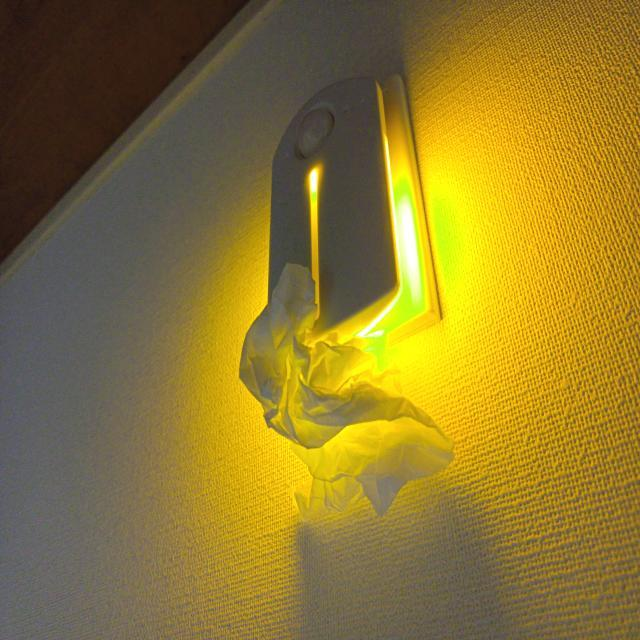Paper: (245, 269, 471, 522)
